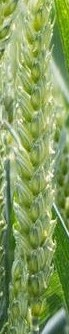Healthy Wheat: (8, 18, 63, 310)
